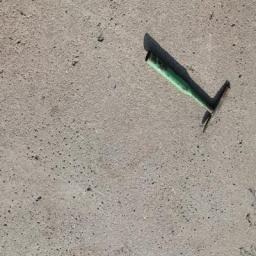FOD: (144, 36, 233, 135)
